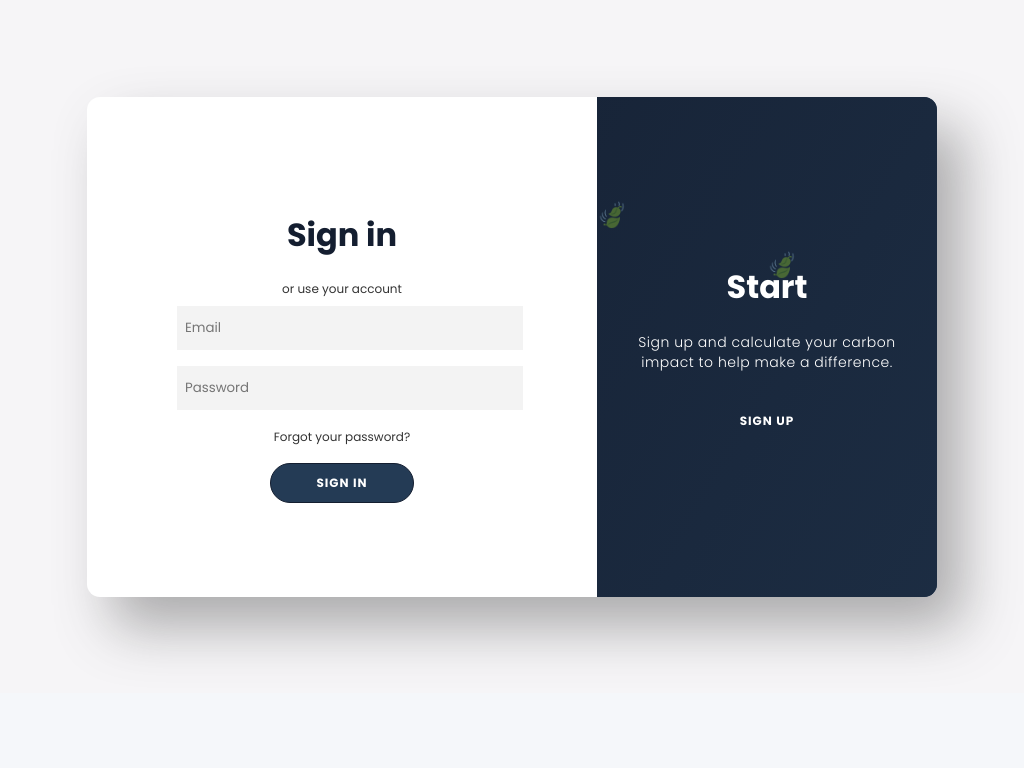
it: AuthPage Component › Register Form › renders name, email, password inputs and submit button
Click the button "Sign Up": click(767, 412) [740,372,794,452]
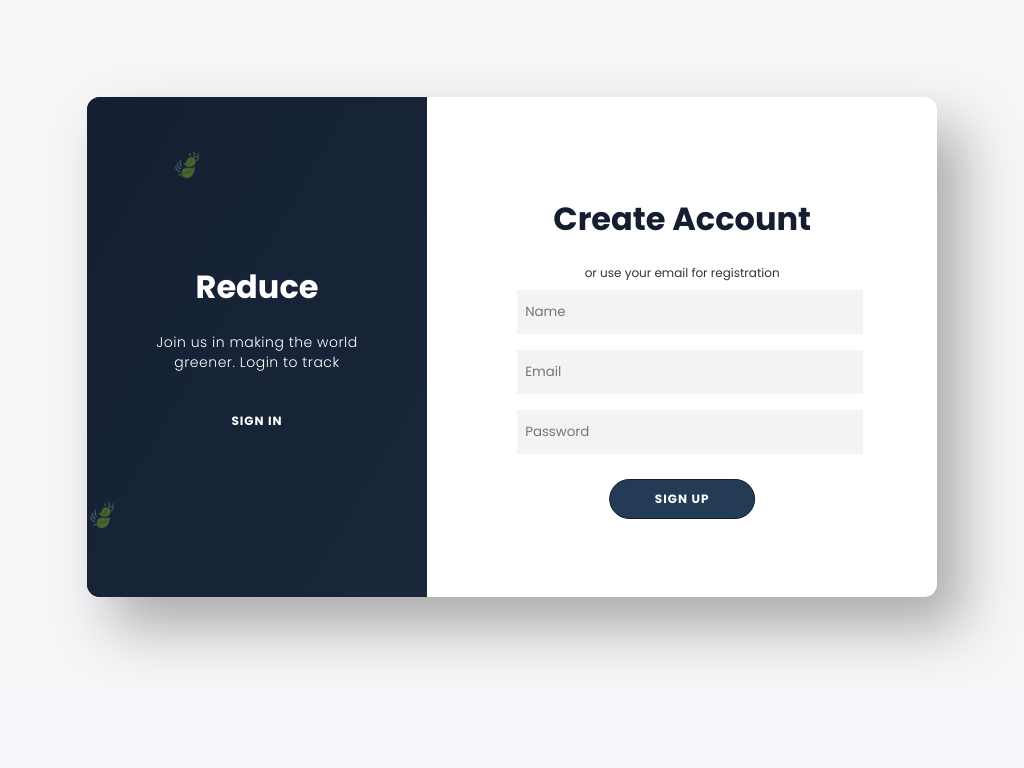
Check: the field with placeholder "Email" is shown, box [517,350,863,394]
Check: the field with placeholder "Name" is shown, box [517,290,863,334]
Check: the button "Sign Up" is shown, box [609,479,756,519]
